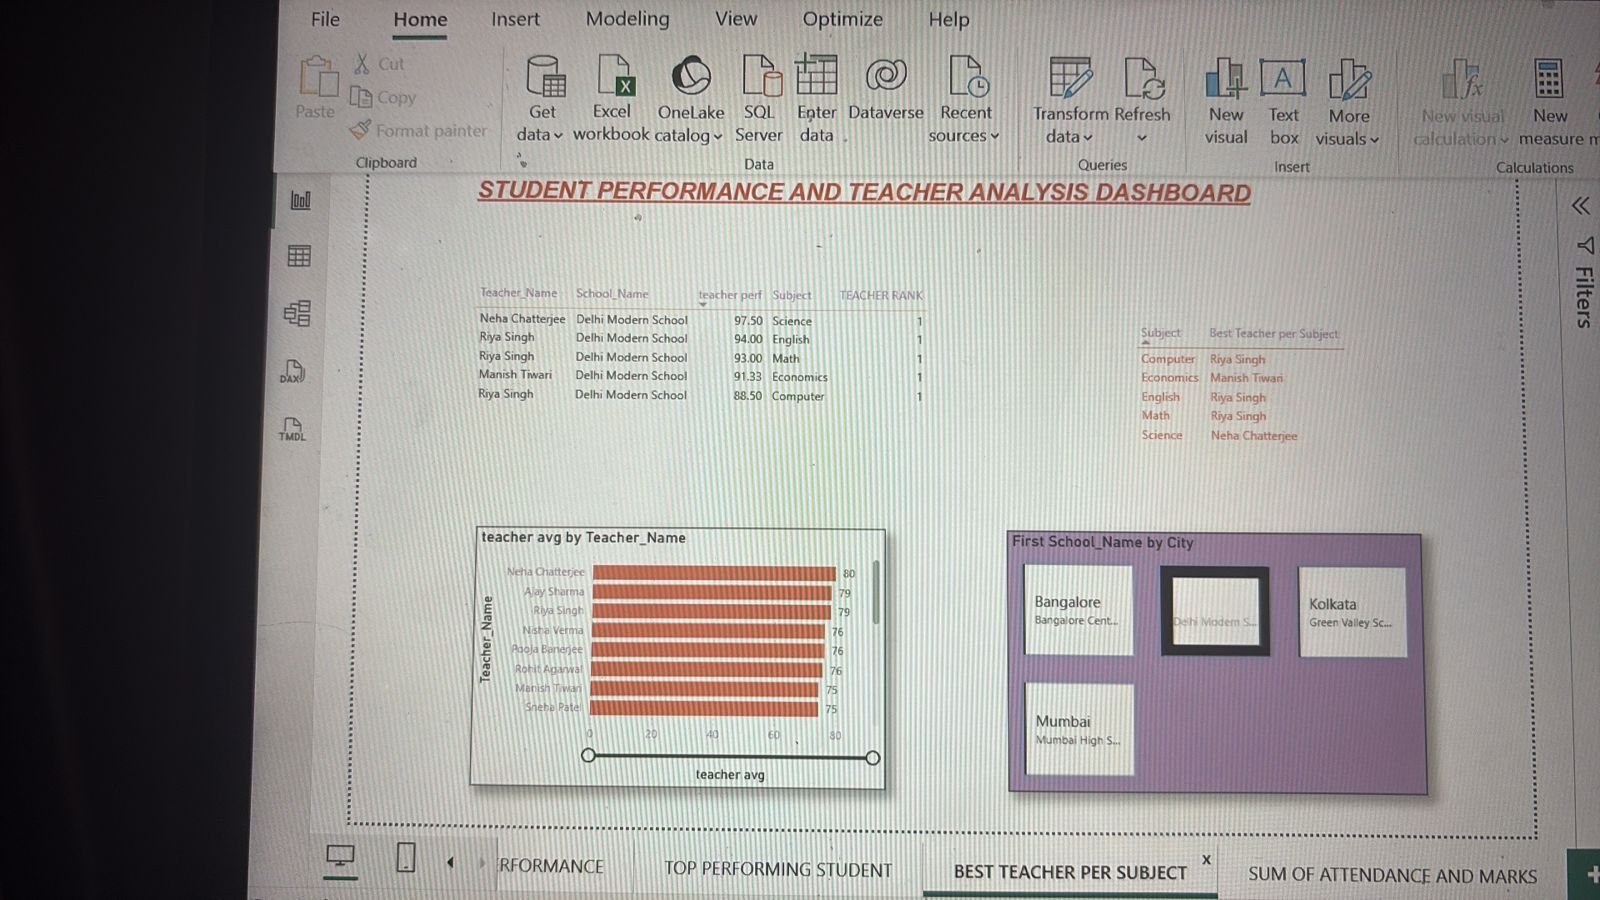

The page's visual inventory and layout, read from the dashboard file:
{"tool":"powerbi","page":{"name":"BEST TEACHER PER SUBJECT","canvas":[1280,720],"ordinal":2},"visuals":[{"type":"barChart","fields":{"Category":["Sheet1.Teacher_Name"],"Y":["Sheet1.teacher avg"]},"box":[131.5,396.4,451.3,280.6],"z":0},{"type":"advancedSlicerVisual","fields":{"Values":["Sheet1.City"],"Label":["Min(Sheet1.School_Name)"]},"box":[716.2,396.4,451.3,280.6],"z":1000},{"type":"tableEx","fields":{"Values":["Sheet1.Teacher_Name","Sheet1.School_Name","Sheet1.teacher perf","Sheet1.Subject","Sheet1.TEACHER RANK"]},"box":[117.7,119.7,571,264.9],"z":2000},{"type":"tableEx","fields":{"Values":["Sheet1.Subject","Sheet1.Best Teacher per Subject","select"]},"box":[851.6,160.9,272.7,223.7],"z":3000},{"type":"textbox","box":[117.7,0,1049.8,41.2],"z":4000}]}

Visuals, with their boxes on the page's 1280x720 design canvas (x1, y1, x2, y2). These are canvas units, not pixel positions in the 1600x900 screenshot, which may show the page scaled, cropped or inside an application window:
barChart - Sheet1.Teacher_Name x Sheet1.teacher avg: rect(132, 396, 583, 677)
advancedSlicerVisual - Sheet1.City x Min(Sheet1.School_Name): rect(716, 396, 1168, 677)
tableEx - Sheet1.Teacher_Name x Sheet1.School_Name: rect(118, 120, 689, 385)
tableEx - Sheet1.Subject x Sheet1.Best Teacher per Subject: rect(852, 161, 1124, 385)
textbox: rect(118, 0, 1168, 41)
